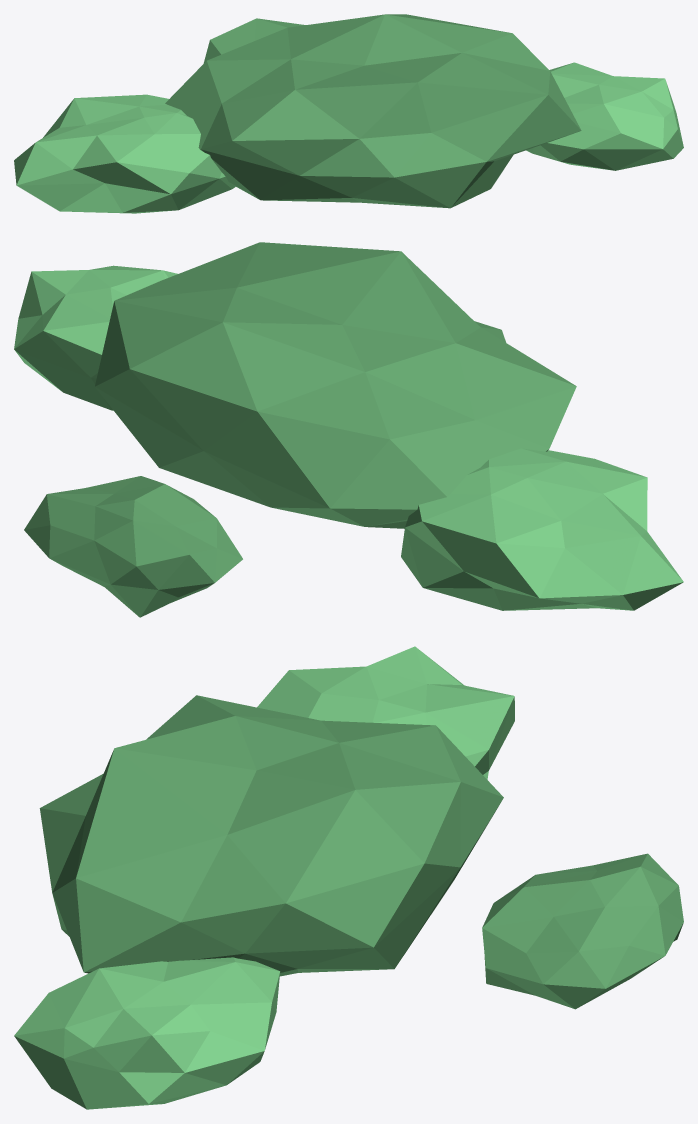
The model's file is t3_rock_depleted.glb.
The picture shows the model from 3 angles, top to bottom: view 1: azimuth 30°, elevation 25°; view 2: azimuth 150°, elevation 25°; view 3: azimuth 270°, elevation 25°; orthographic projection. The views are drawn at different scales.
Parts seen in each view (by area): view 1: RubbleCenter, RubbleLeft, RubbleRight, RubbleFront; view 2: RubbleCenter, RubbleLeft, RubbleFront, RubbleRight; view 3: RubbleCenter, RubbleRight, RubbleFront, RubbleLeft.
Boxes of the visible parts, <box> form: RubbleCenter: <box>165,14,581,208</box>; RubbleLeft: <box>14,94,235,213</box>; RubbleRight: <box>526,62,683,170</box>; RubbleFront: <box>203,18,305,63</box>; RubbleCenter: <box>95,242,576,528</box>; RubbleLeft: <box>401,448,683,610</box>; RubbleFront: <box>24,476,242,617</box>; RubbleRight: <box>14,265,177,410</box>; RubbleCenter: <box>39,695,503,976</box>; RubbleRight: <box>14,957,280,1109</box>; RubbleFront: <box>482,853,683,1009</box>; RubbleLeft: <box>257,646,514,779</box>.
Size of the model in its own units: 1.02 by 0.2306 by 0.7037.
